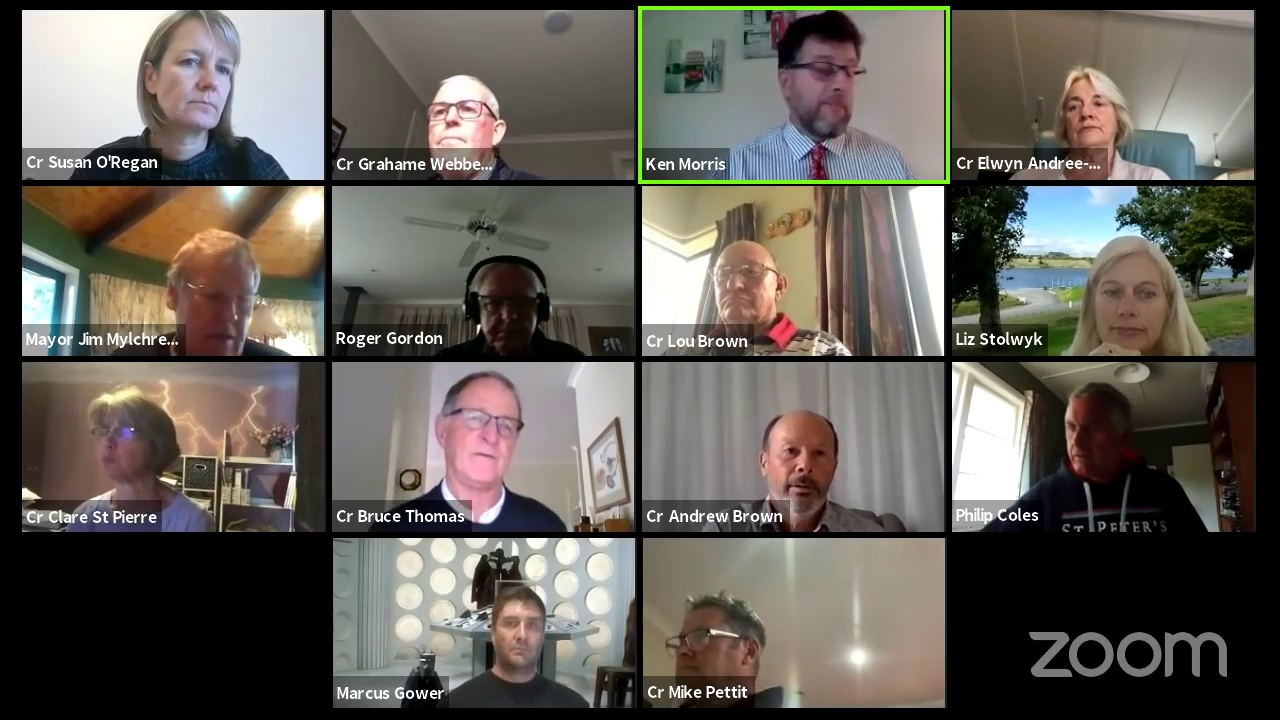Distracted: (783, 23, 871, 137), (169, 239, 256, 348), (89, 393, 172, 484), (677, 597, 761, 685), (1065, 387, 1130, 484)
Not Distracted: (143, 19, 234, 137), (1075, 251, 1176, 348), (756, 414, 848, 520), (458, 257, 552, 343), (445, 378, 515, 489), (422, 74, 494, 170), (1056, 73, 1133, 150), (710, 247, 780, 326), (490, 600, 548, 667)
